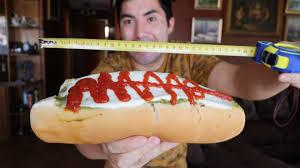Completos: (26, 68, 246, 141)
